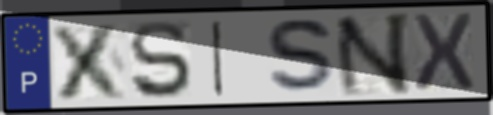I: (210, 18, 227, 99)
N: (331, 10, 413, 100)
S: (264, 16, 342, 97), (127, 18, 196, 102)
X: (48, 21, 132, 102), (409, 11, 478, 96)
